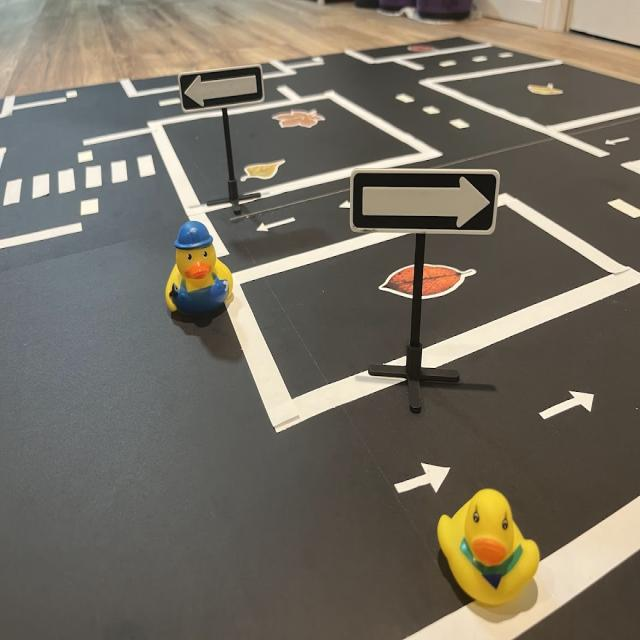duck_regular: (432, 485, 543, 612)
duck_specialty: (164, 213, 240, 327)
road_crosswalk: (2, 147, 161, 214)
road_oneway: (393, 456, 453, 502), (537, 387, 598, 431), (257, 213, 298, 235), (604, 133, 636, 152)
sign_oneway_left: (180, 64, 266, 112)
sign_oneway_right: (349, 171, 502, 236)
